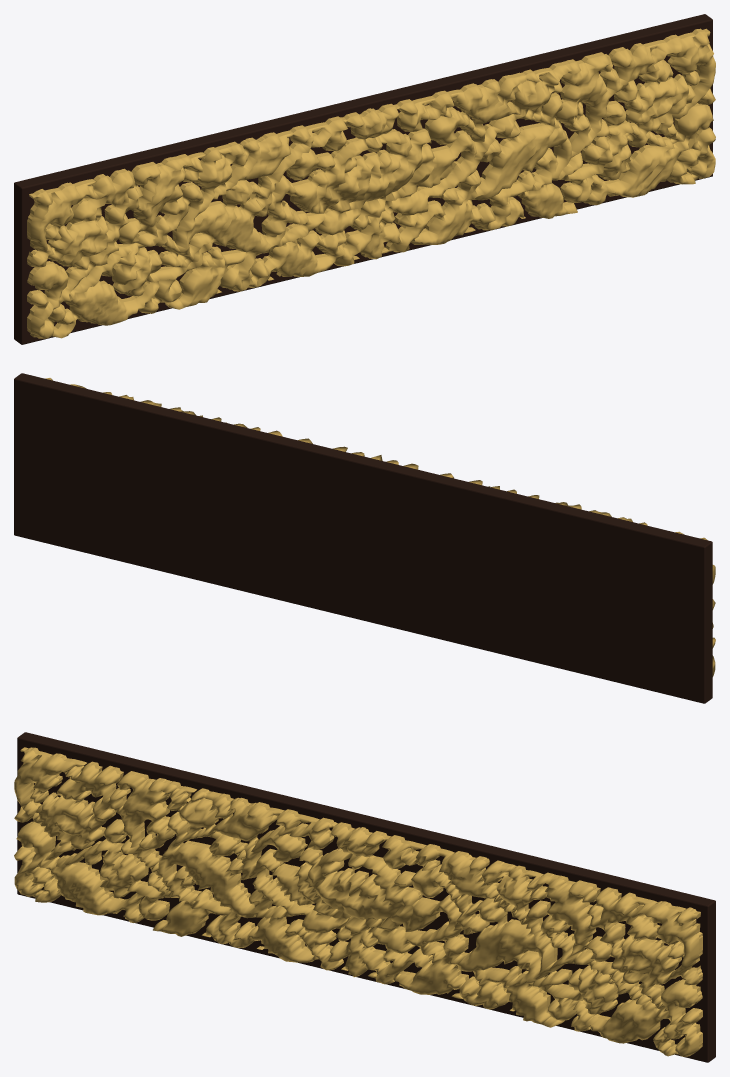
The model's file is ranma-relief.glb.
3 views of the same model, one above another, from view 1: azimuth 30°, elevation 25°; view 2: azimuth 150°, elevation 25°; view 3: azimuth 330°, elevation 25° (orthographic).
Parts seen in each view (by area): view 1: ranma_gilt_carved_leaves, ranma_deep_wood_backplate; view 2: ranma_deep_wood_backplate, ranma_gilt_carved_leaves; view 3: ranma_gilt_carved_leaves, ranma_deep_wood_backplate.
Boxes of the visible parts, x1=… form: ranma_gilt_carved_leaves: x1=27, y1=28, x2=715, y2=338; ranma_deep_wood_backplate: x1=14, y1=14, x2=712, y2=344; ranma_deep_wood_backplate: x1=14, y1=373, x2=712, y2=703; ranma_gilt_carved_leaves: x1=45, y1=378, x2=715, y2=676; ranma_gilt_carved_leaves: x1=14, y1=747, x2=702, y2=1056; ranma_deep_wood_backplate: x1=17, y1=732, x2=715, y2=1062.
Size of the model in its own units: 1.32 by 0.286 by 0.073.
